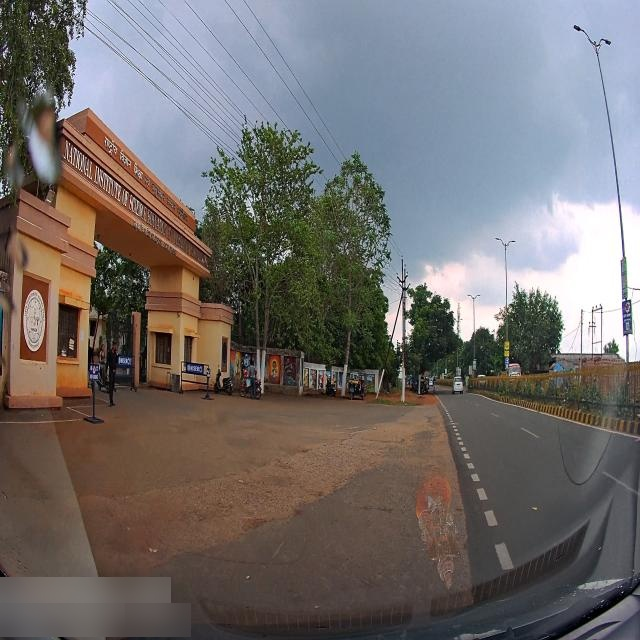pothole: (240, 508, 269, 534), (293, 445, 314, 454)
